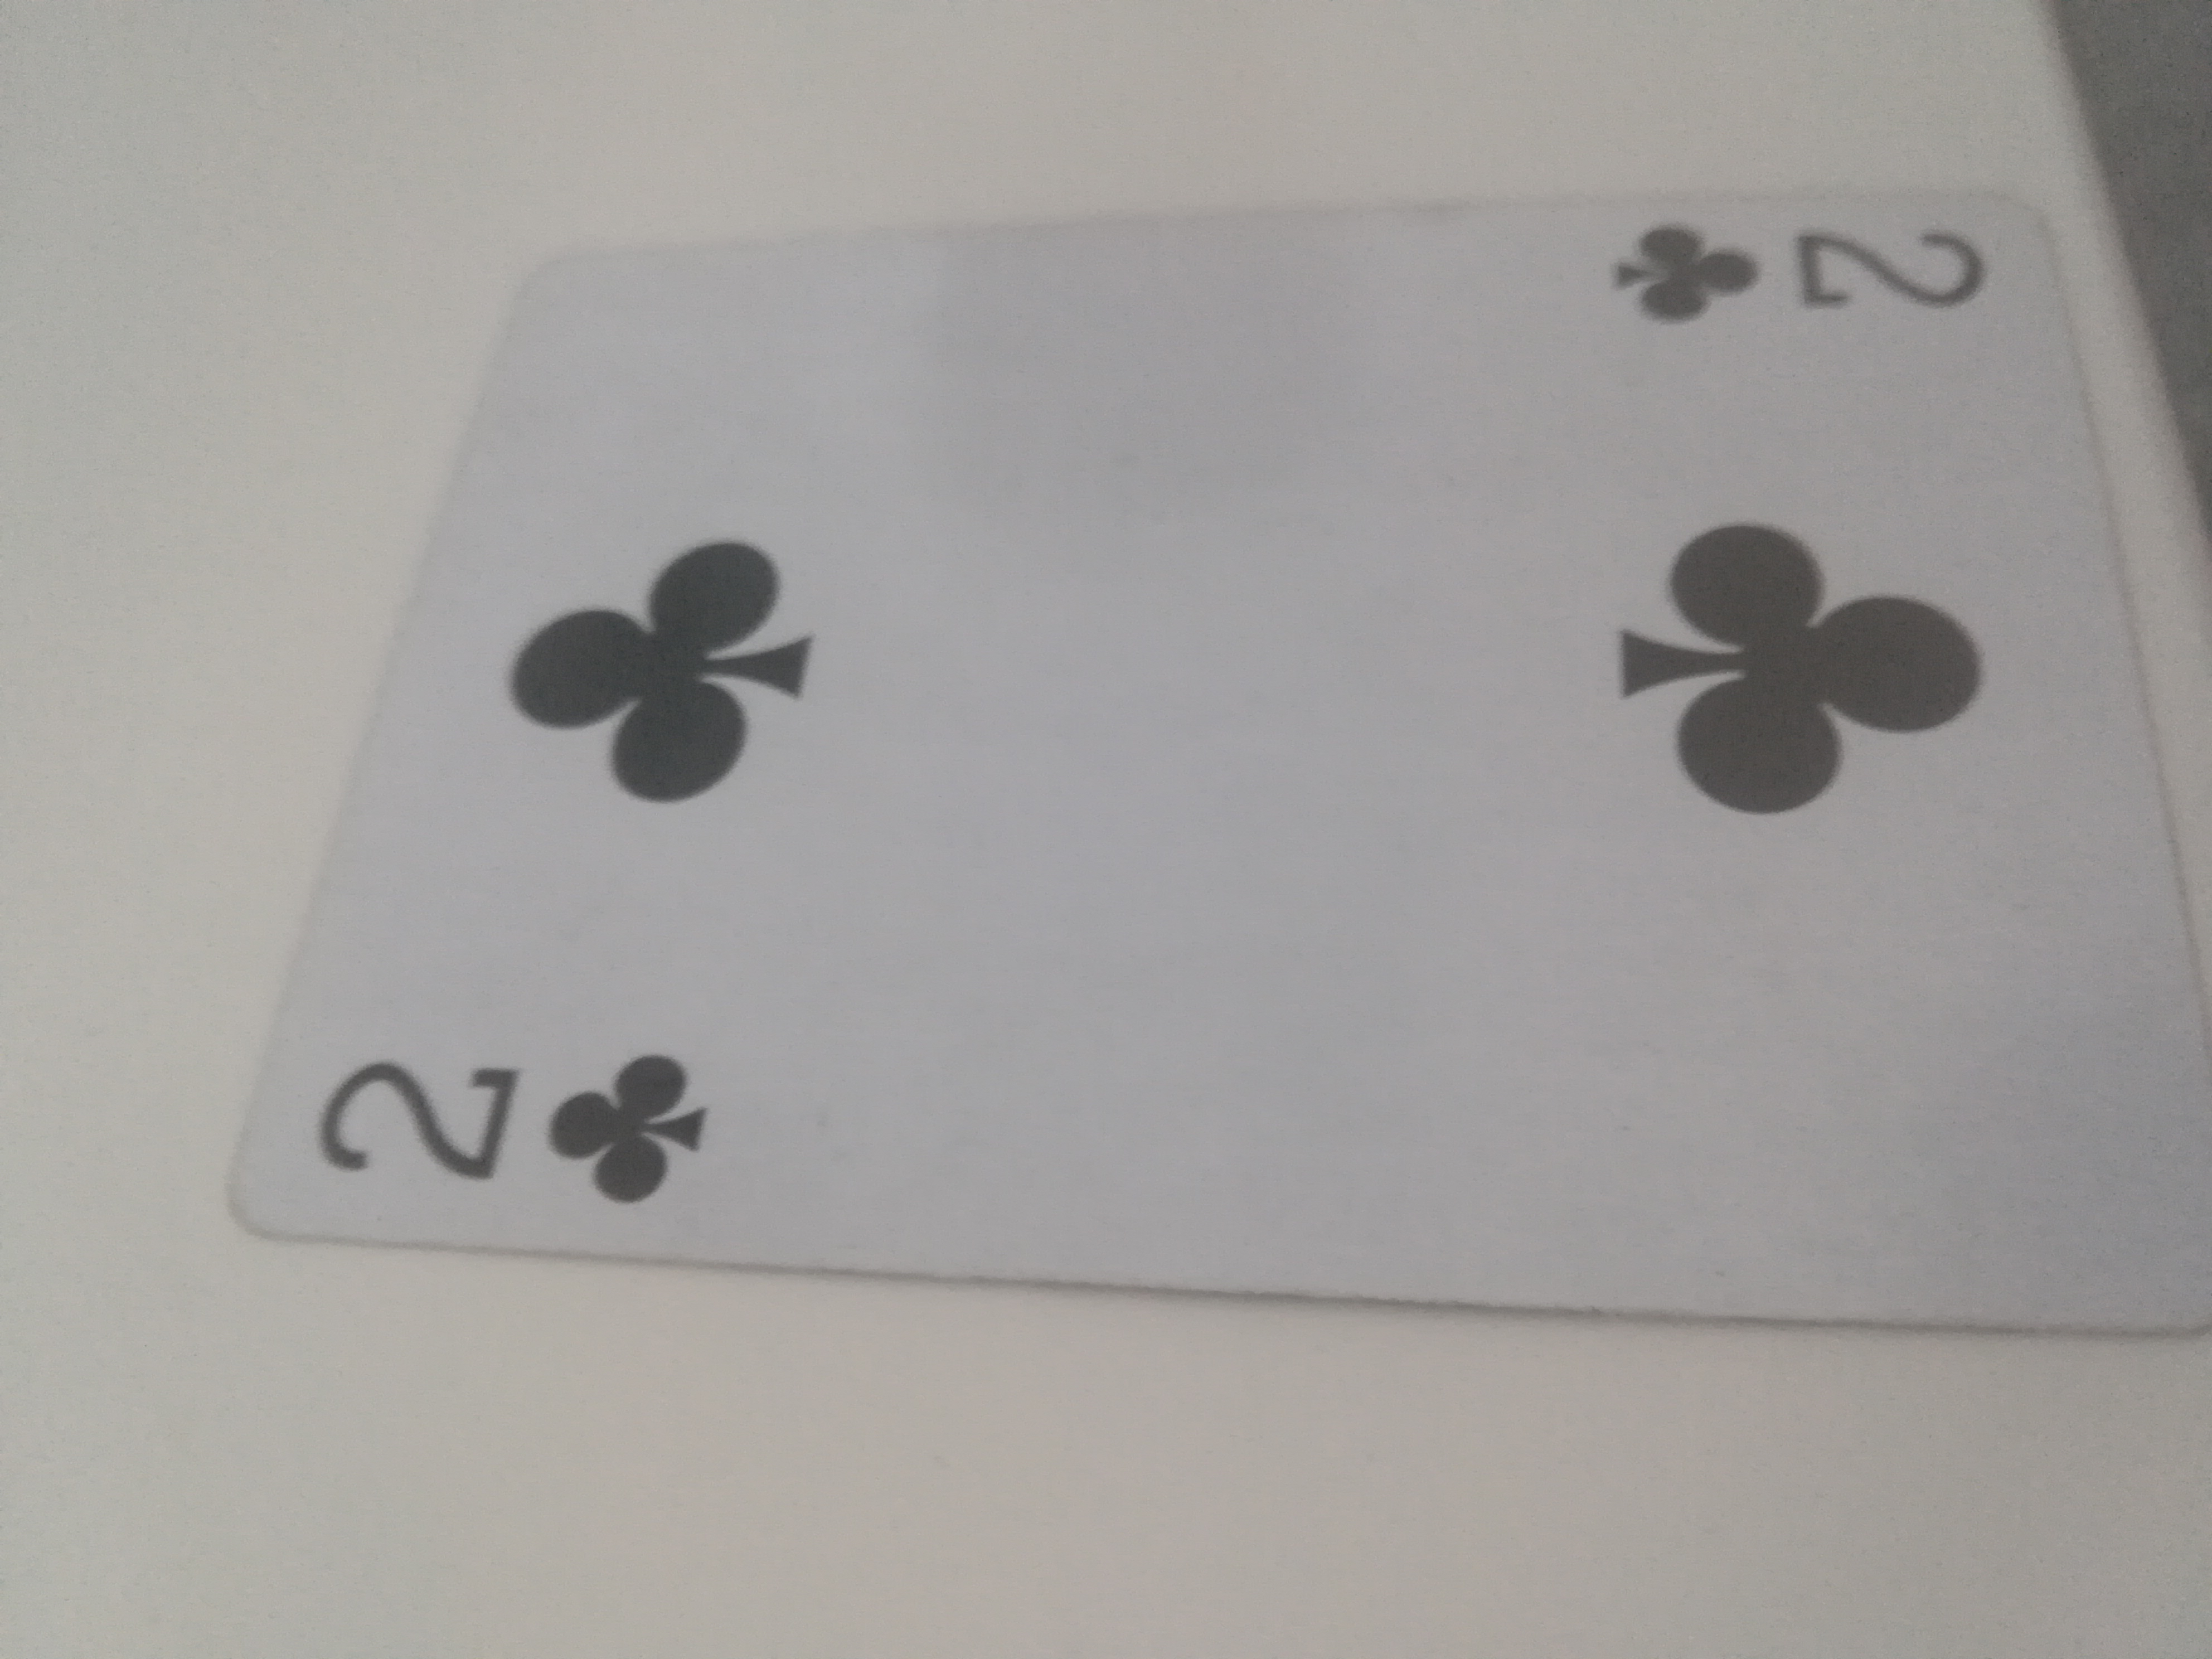2C: (216, 188, 2177, 1340)
